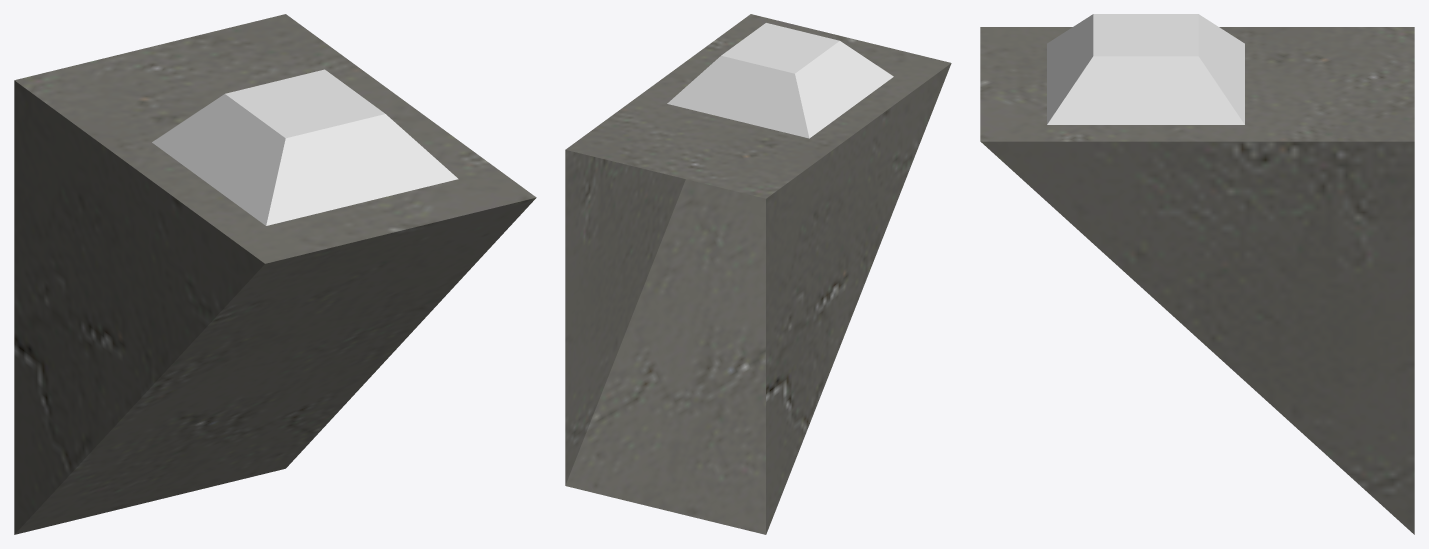
Rendered from building_lamp.fbx.
3 renders of one model, left to right at view 1: azimuth 30°, elevation 25°; view 2: azimuth 150°, elevation 25°; view 3: azimuth 270°, elevation 25°, orthographic. The views are drawn at different scales.
Visible parts, largest first — view 1: building_lamp; view 2: building_lamp; view 3: building_lamp.
Boxes of the visible parts, <box> form: building_lamp: <box>14,14,536,534</box>; building_lamp: <box>565,14,951,534</box>; building_lamp: <box>980,14,1414,534</box>.
Bounding box in the file's own units: 50 × 90 × 80.
